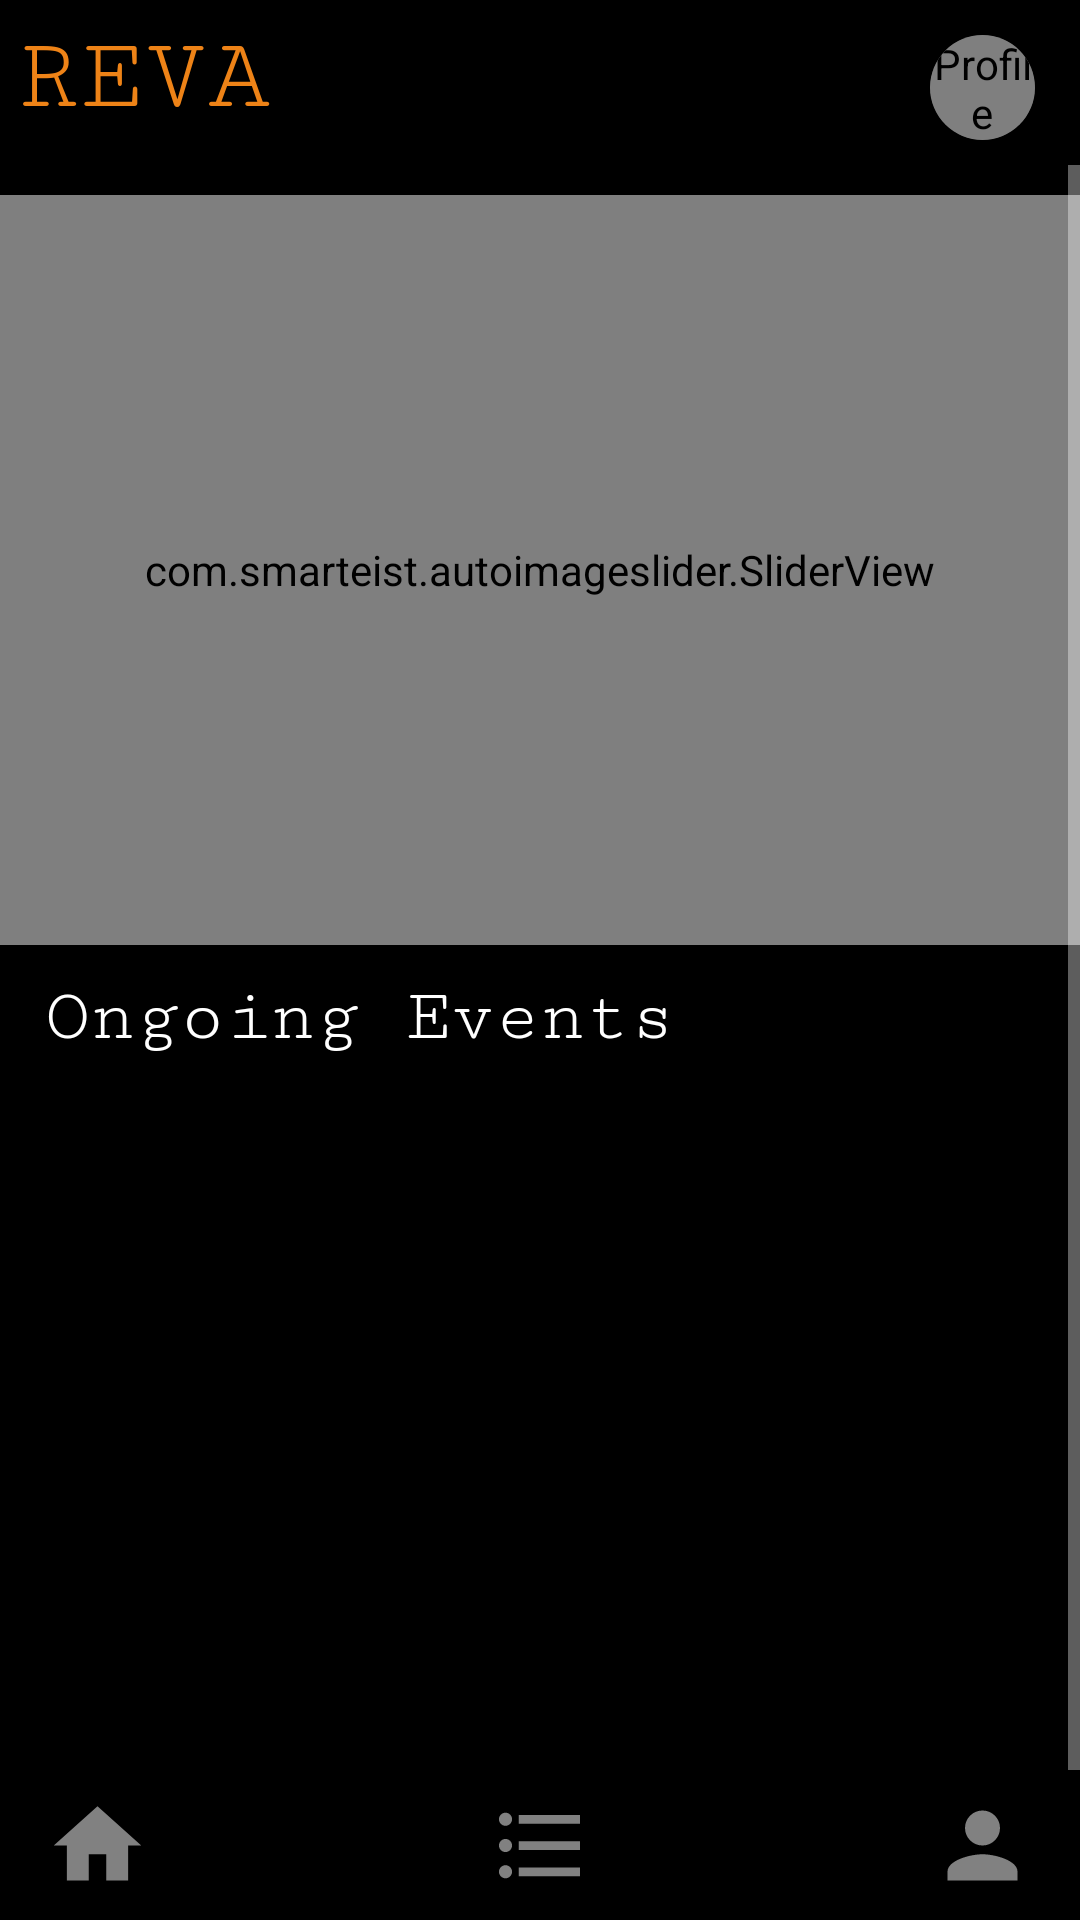

Where icons sit on this 1080w x 1920h app screen, as (x1, y1, x2, y2):
format list bulleted: (499, 1812, 580, 1879)
home: (54, 1806, 141, 1881)
person: (947, 1810, 1018, 1881)
